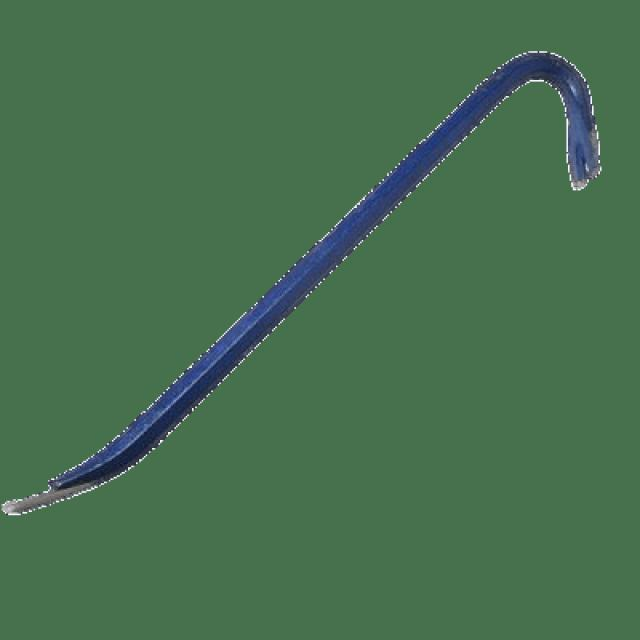Linggis: (21, 36, 610, 542)
